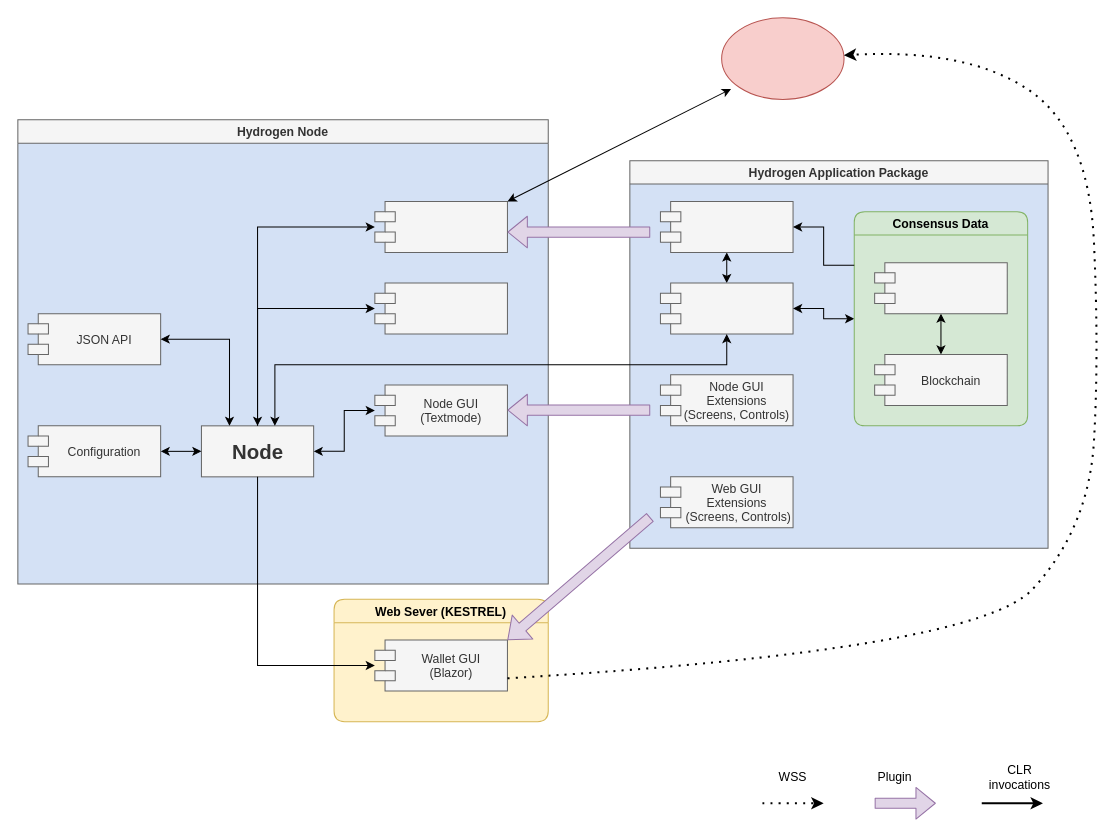
Some shapes in this 1115 by 837 pixel diagram are drawn without their labels. Each missing label, with the centre of its shape:
"Communications Engine" belongs at (440,226).
"Content Engine" belongs at (440,308).
"Internal Processing Rules" belongs at (726,308).
"Object Space" belongs at (940,288).
"Protocol Definitions" belongs at (726,226).
"Remote Node" belongs at (782,58).
